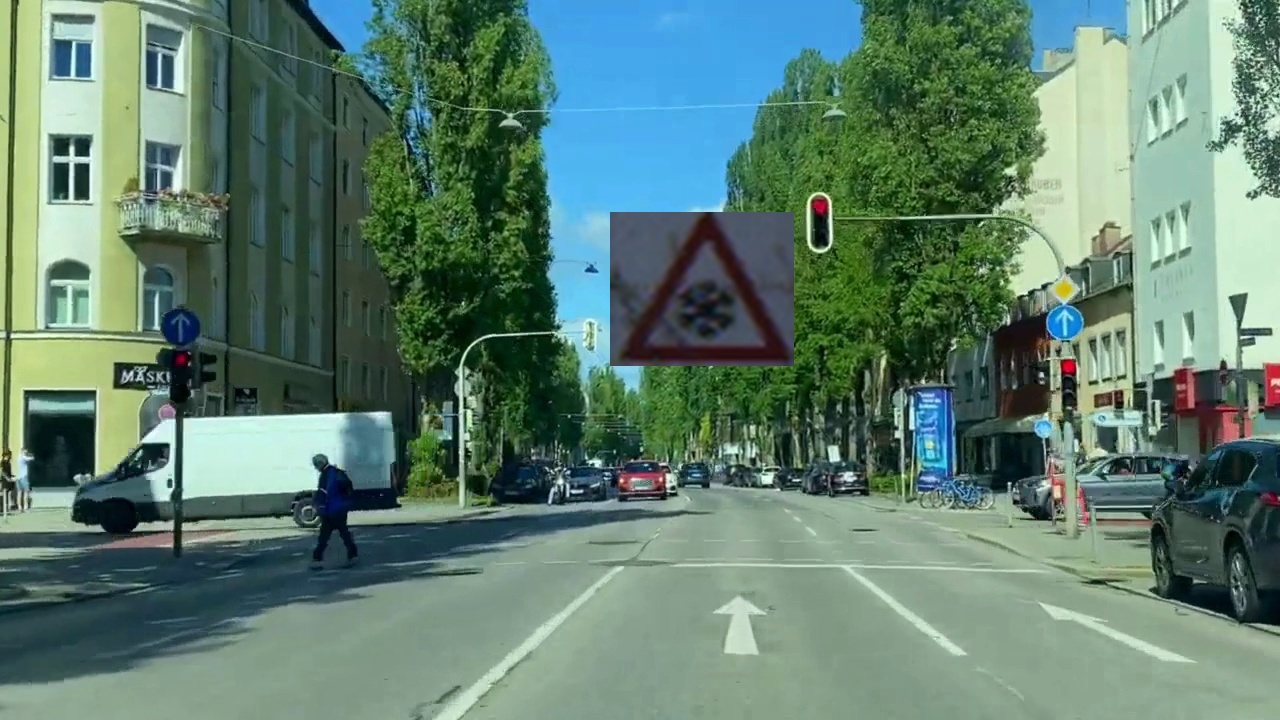Ice/snow: (610, 212, 794, 366)
